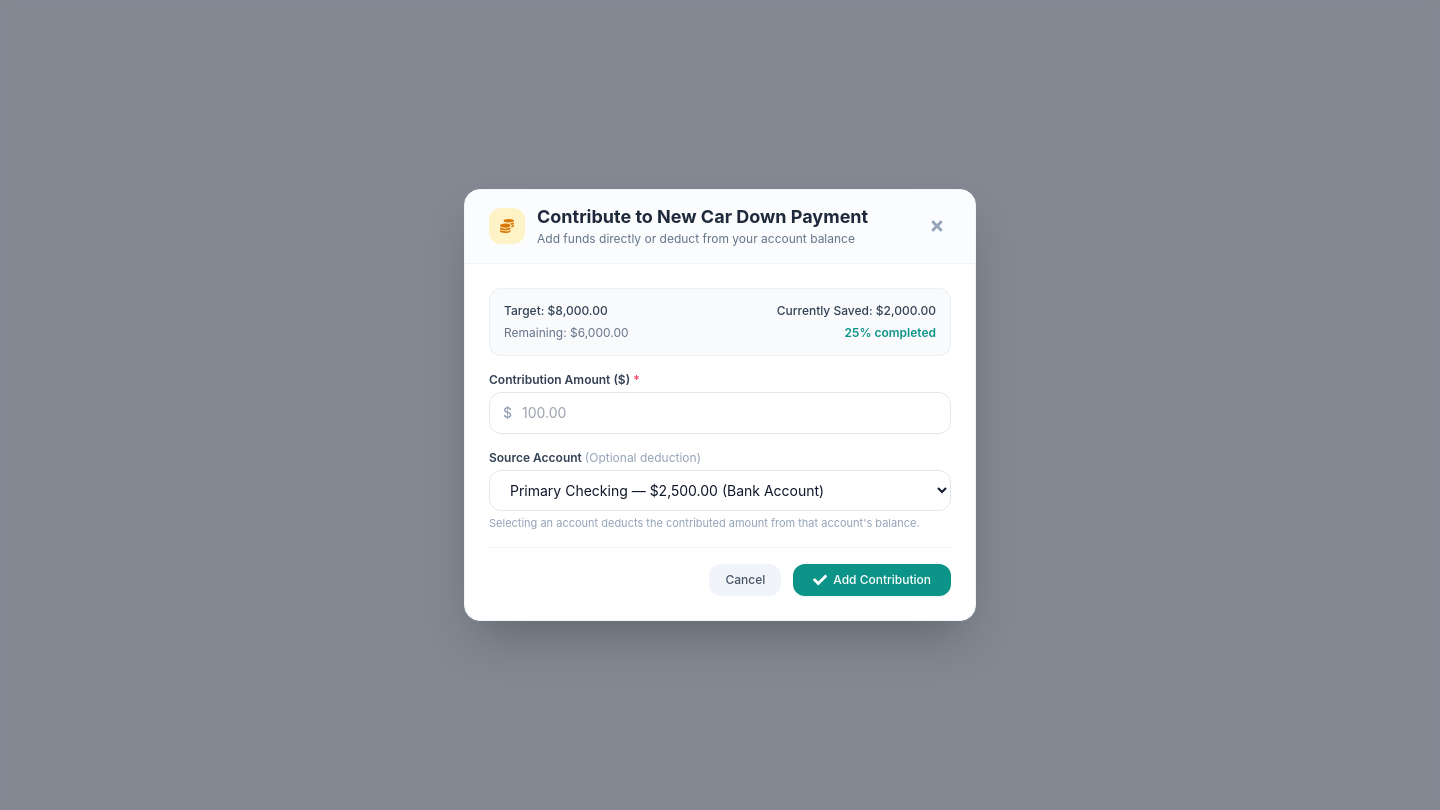
Test: GoalModal Component › validates contribution amount and prevents submission if invalid
Click the button with test id "goal-modal-submit-button". click: (872, 580)
box: [793,564,951,596]
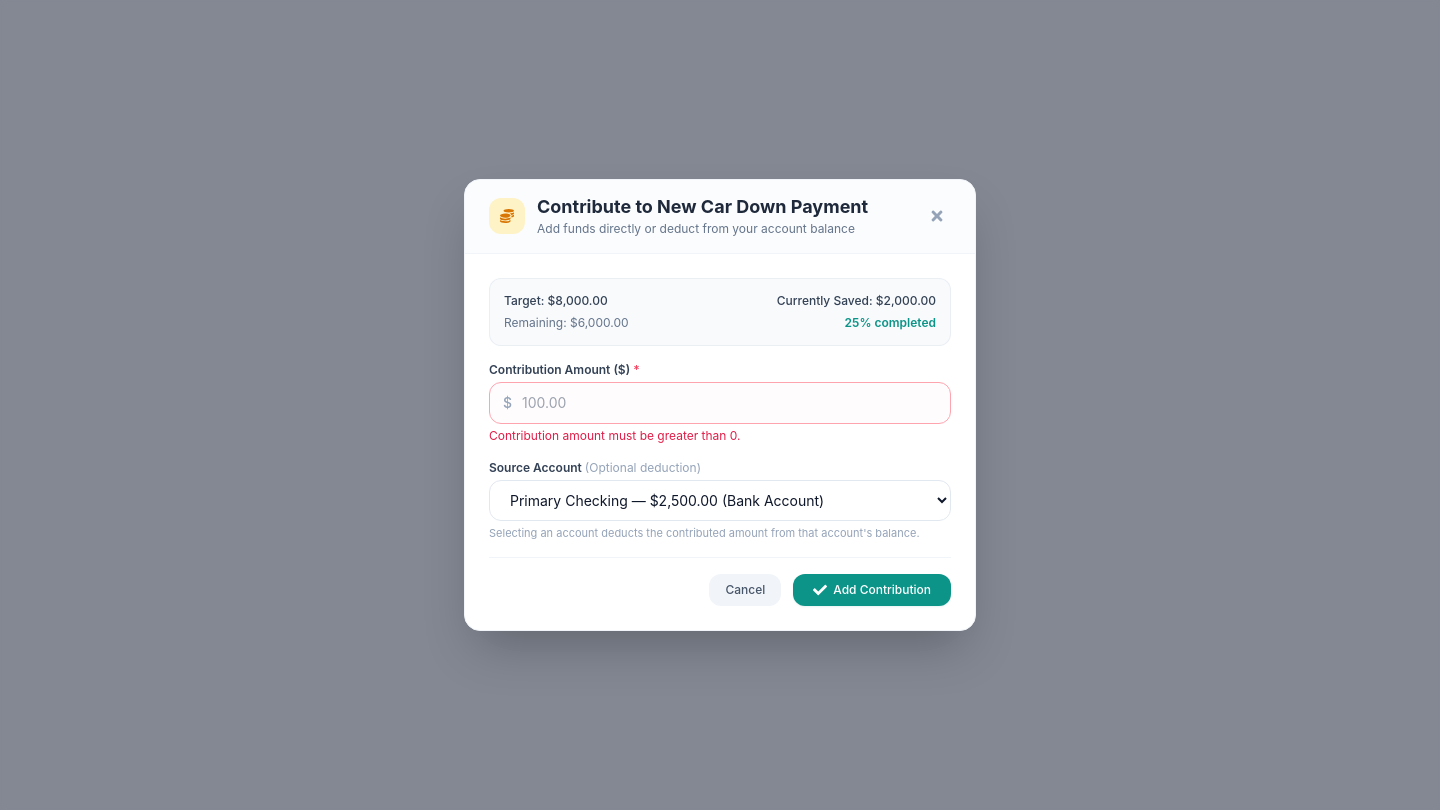
Result: the text "Contribution amount must be greater than 0." is shown at [489,428,740,442]
